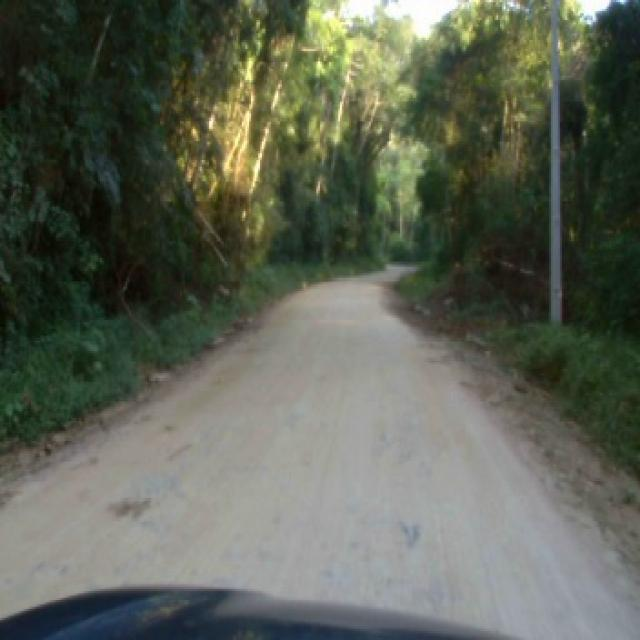Poth-hole: (107, 491, 149, 518), (396, 518, 422, 546)
